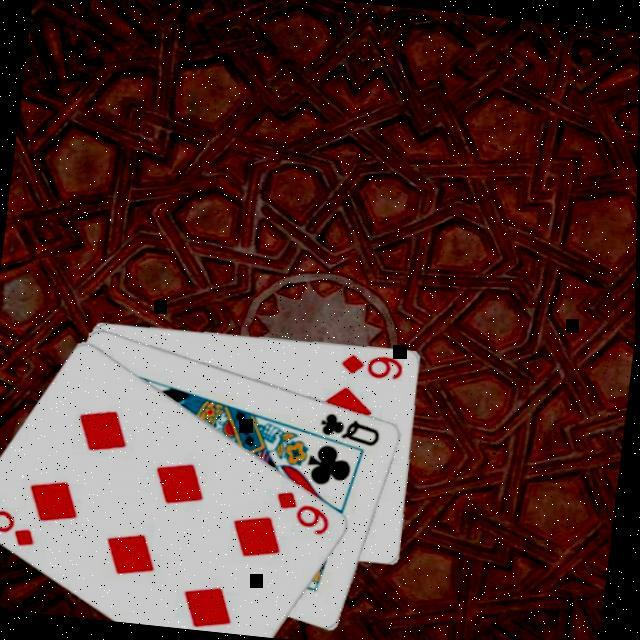6D: (273, 488, 340, 540), (340, 350, 411, 385), (0, 500, 45, 552)
QC: (318, 410, 387, 452)
